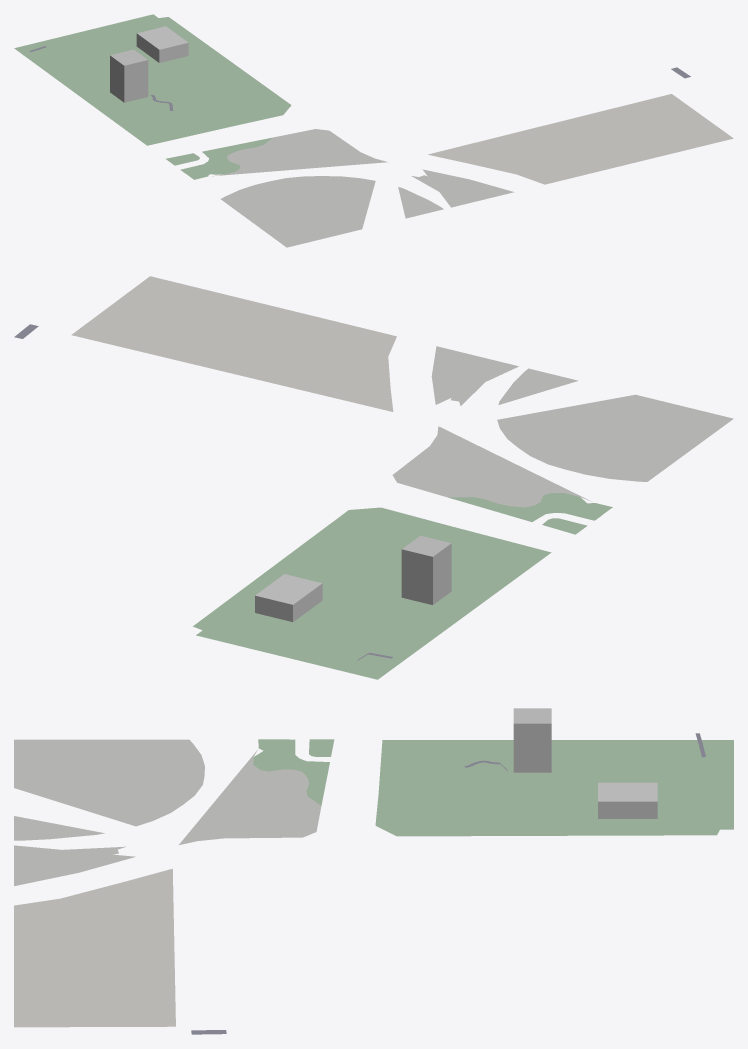
The model's file is 122_124_mid.glb.
3 renders of one model, top to bottom at view 1: azimuth 30°, elevation 25°; view 2: azimuth 150°, elevation 25°; view 3: azimuth 270°, elevation 25°, orthographic. The views are drawn at different scales.
Size of the model in its own units: 499 by 37.5 by 500.
